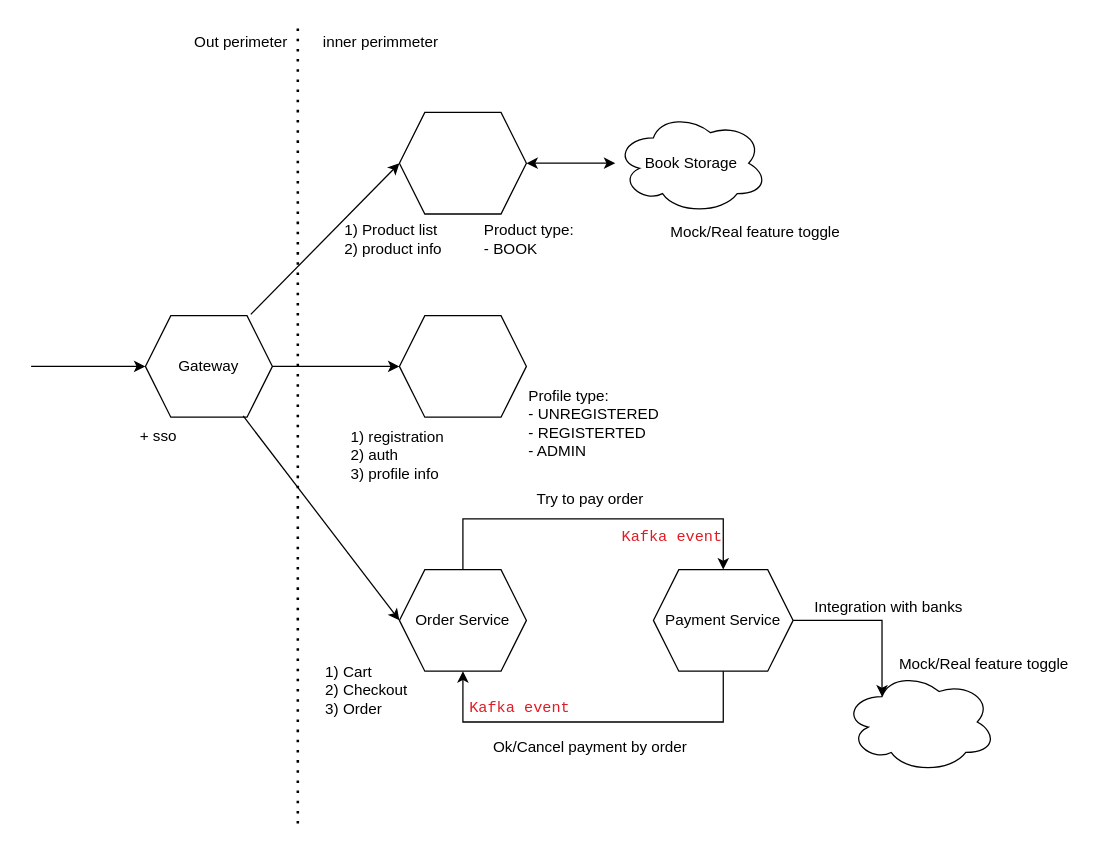
Some shapes in this 1107 by 847 pixel diagram are drawn without their labels. The centre of each missing label's shape, as x and y in pixels:
Product Service: pixel 462 162
Profile Service: pixel 462 365
